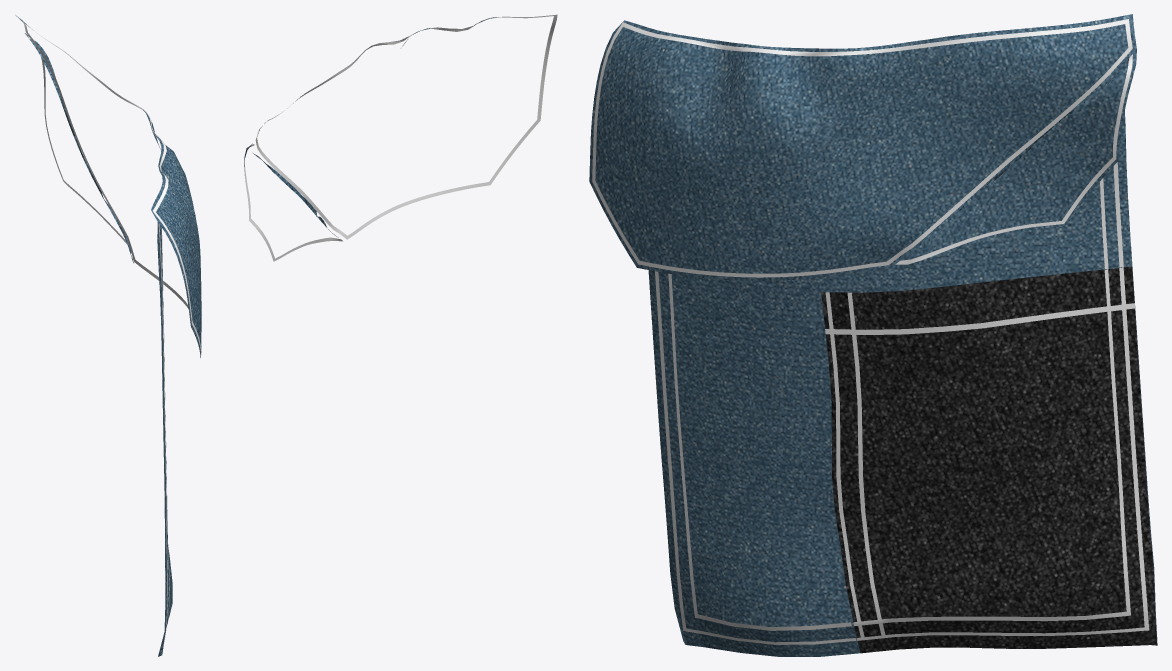
The model's file is Pants_Pocket_Right_V1.glb.
3 renders of one model, left to right at view 1: azimuth 30°, elevation 25°; view 2: azimuth 150°, elevation 25°; view 3: azimuth 270°, elevation 25°, orthographic. The views are drawn at different scales.
Parts seen in each view (by area): view 1: Pocket_RIght.001, Pants_Rope_Pocket_Right.001; view 2: Pants_Rope_Pocket_Right.001; view 3: Pocket_RIght.001, Pants_Rope_Pocket_Right.001.
Boxes of the visible parts, box(x1,y1,x2,y2) form: Pocket_RIght.001: box(15, 15, 201, 656); Pants_Rope_Pocket_Right.001: box(20, 18, 201, 641); Pants_Rope_Pocket_Right.001: box(244, 14, 557, 261); Pocket_RIght.001: box(589, 14, 1157, 656); Pants_Rope_Pocket_Right.001: box(592, 19, 1149, 644).
Size of the model in its own units: 0.0607 by 0.2898 by 0.2304.
Materials: 2 (2 with a texture image).
